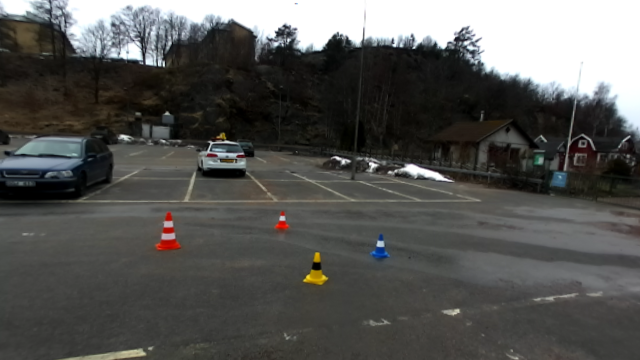blue: (368, 232, 392, 261)
orange: (272, 210, 292, 231)
orange2: (152, 210, 183, 250)
yellow: (299, 249, 329, 286)
